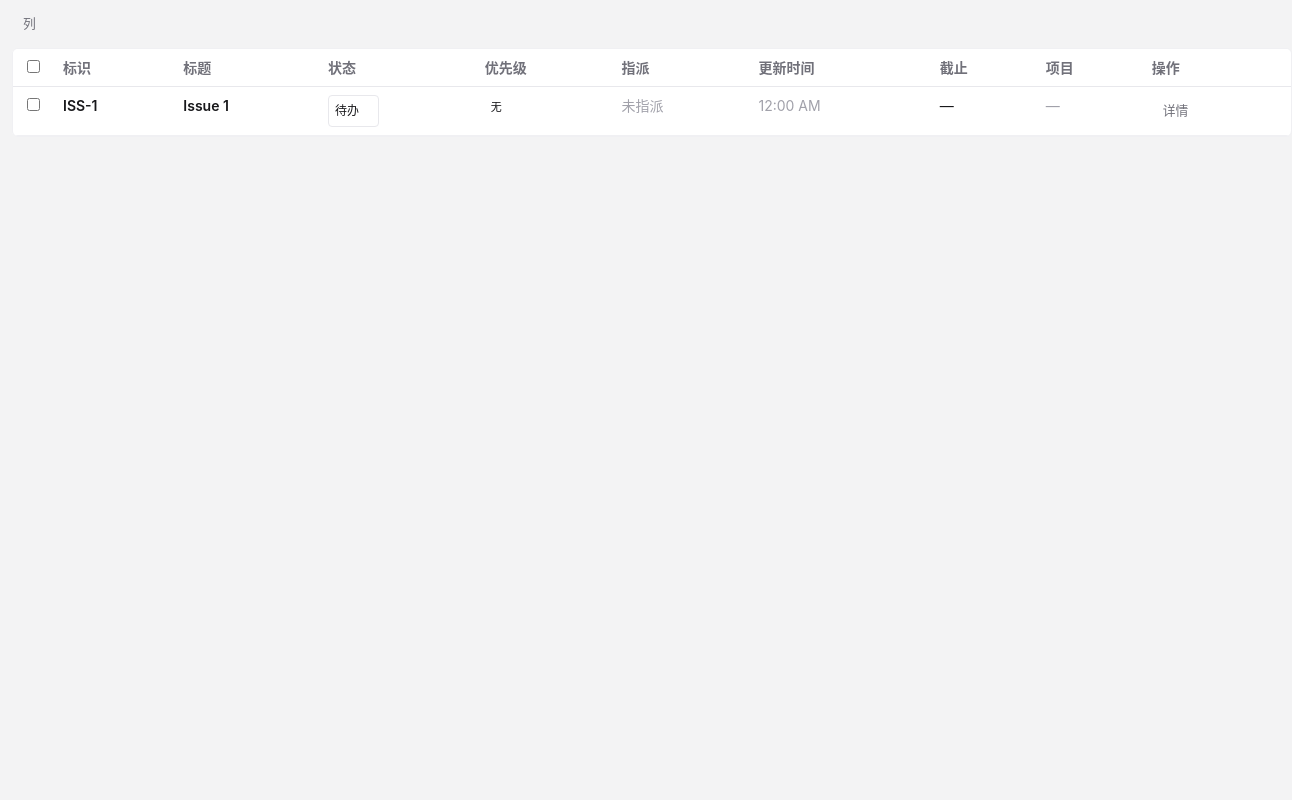
Scenario: IssueListView 列选择（列表表格二阶） › 点击面板外部关闭列面板（偏好保持）
Click the button with test id "issue-list-column-picker" at (29, 24), box [12,8,47,40]
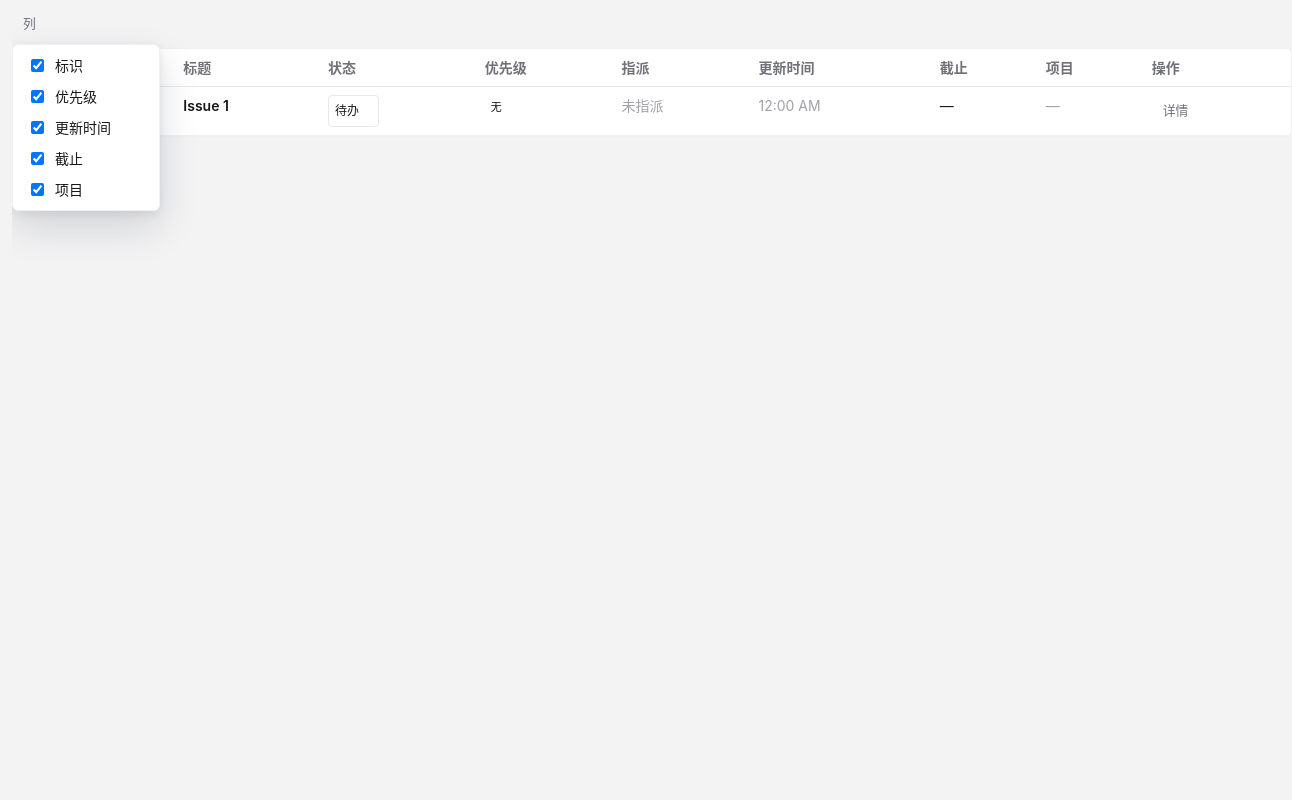
Click the checkbox with test id "issue-list-column-opt-identifier" at (38, 66), box [31,59,44,72]
(page scrolled)
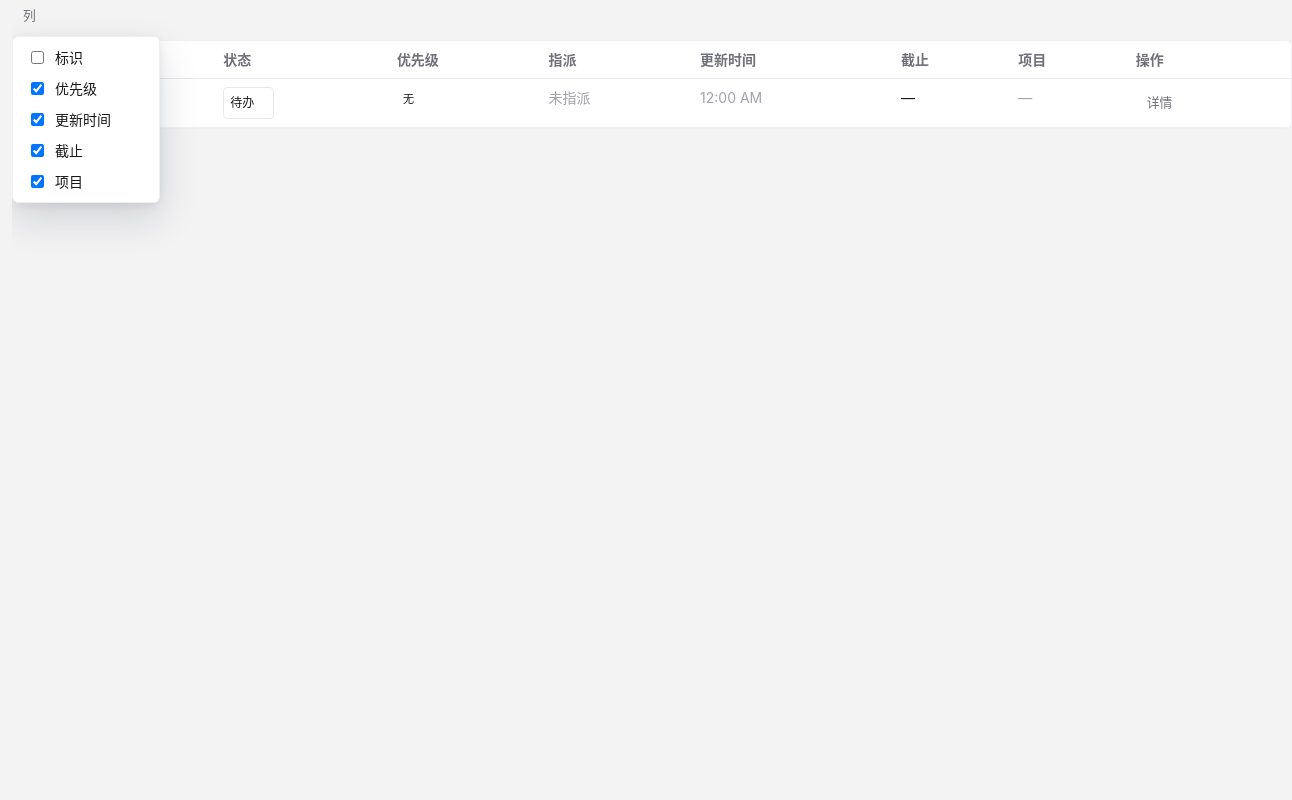
Press the mouse on the element that starts with "优先级" at (652, 400), box [12,0,1291,799]
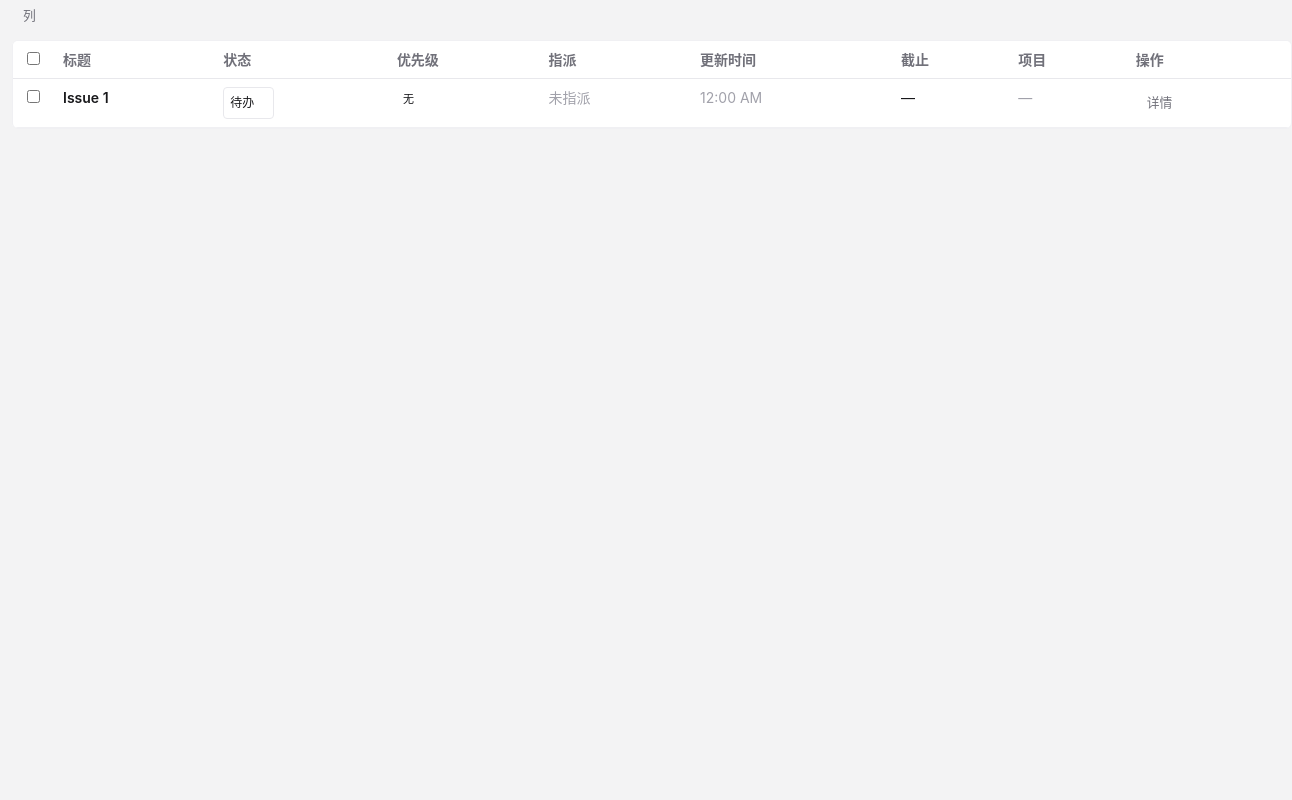
expect the element with test id "issue-list-column-panel" is gone: met
